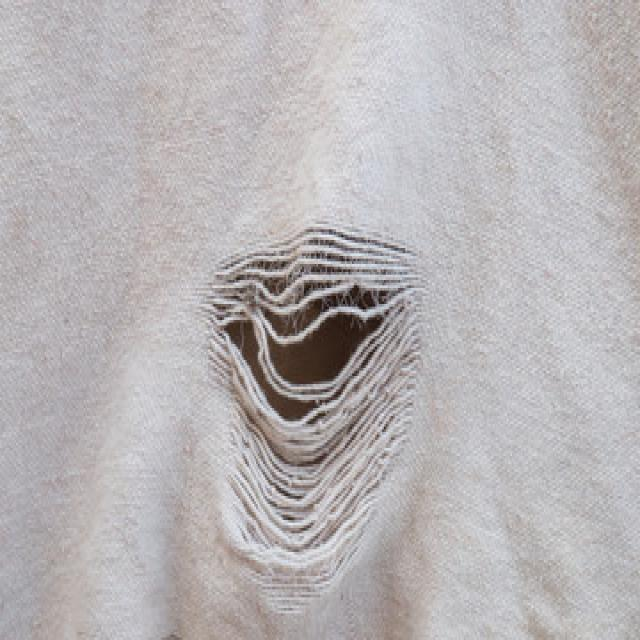Hole: (208, 223, 419, 614)
